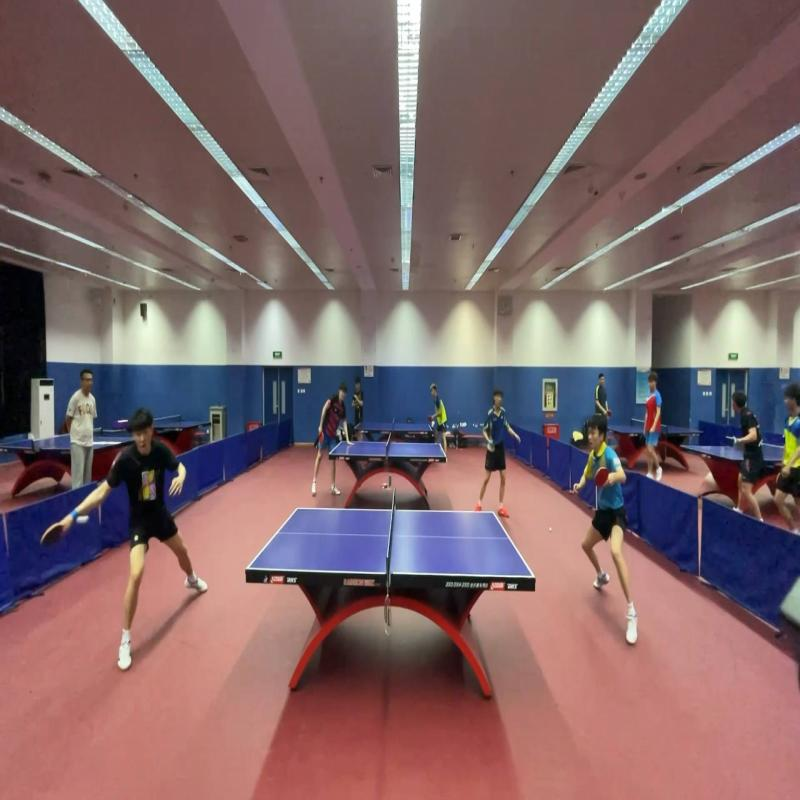bats: (36, 517, 66, 551)
